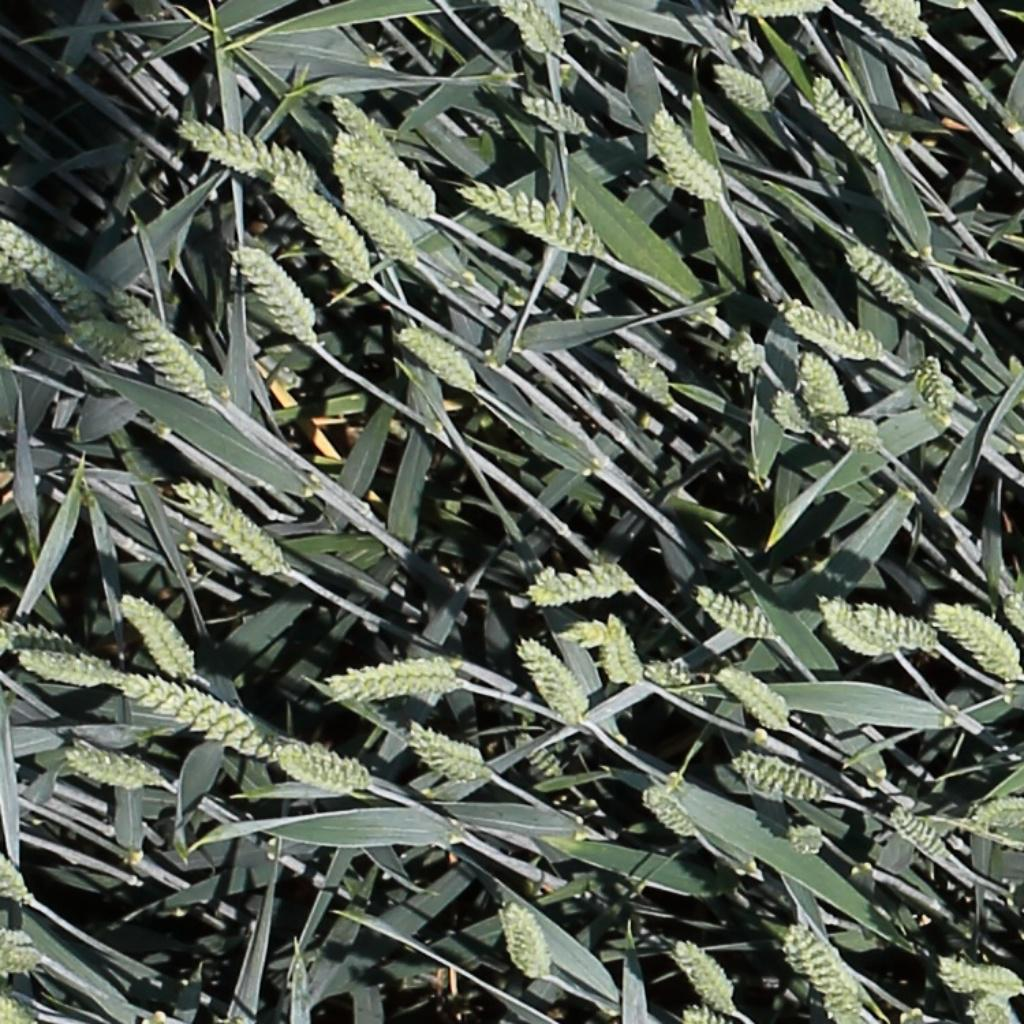0-0: (99, 276, 225, 411), (270, 152, 375, 286), (117, 675, 274, 759), (177, 116, 323, 198), (458, 184, 607, 263), (172, 479, 291, 576), (335, 126, 444, 223), (228, 241, 323, 352), (1, 214, 95, 318), (331, 164, 420, 273), (313, 656, 464, 719), (933, 596, 1024, 687), (114, 592, 204, 681), (647, 102, 725, 204), (782, 921, 862, 1018), (806, 70, 882, 172), (808, 594, 905, 666), (513, 637, 588, 726), (394, 323, 484, 390), (852, 599, 947, 659), (782, 303, 882, 359), (669, 936, 737, 1018), (274, 742, 369, 795), (731, 752, 826, 804), (531, 562, 641, 606), (843, 241, 916, 307), (714, 667, 789, 731), (498, 894, 547, 986), (62, 748, 170, 789), (692, 587, 772, 641), (797, 346, 850, 423), (887, 806, 951, 868), (501, 730, 574, 784), (70, 322, 138, 378), (518, 91, 594, 140), (613, 344, 673, 406), (334, 95, 395, 153), (935, 958, 1023, 998), (496, 0, 554, 57), (15, 655, 117, 687), (638, 787, 697, 842), (602, 614, 642, 693), (408, 729, 483, 767), (917, 348, 954, 425), (413, 745, 487, 783), (723, 332, 776, 383), (711, 64, 771, 109), (518, 0, 565, 57), (864, 0, 925, 40), (0, 623, 80, 653), (642, 654, 703, 693), (0, 847, 36, 913), (768, 385, 811, 438), (829, 413, 883, 455), (552, 616, 609, 655), (971, 796, 1024, 836), (779, 819, 829, 861), (1, 926, 39, 974), (733, 0, 826, 15), (0, 253, 34, 292), (966, 1000, 1019, 1024), (1, 991, 41, 1022), (997, 588, 1024, 628), (679, 1007, 726, 1024)
